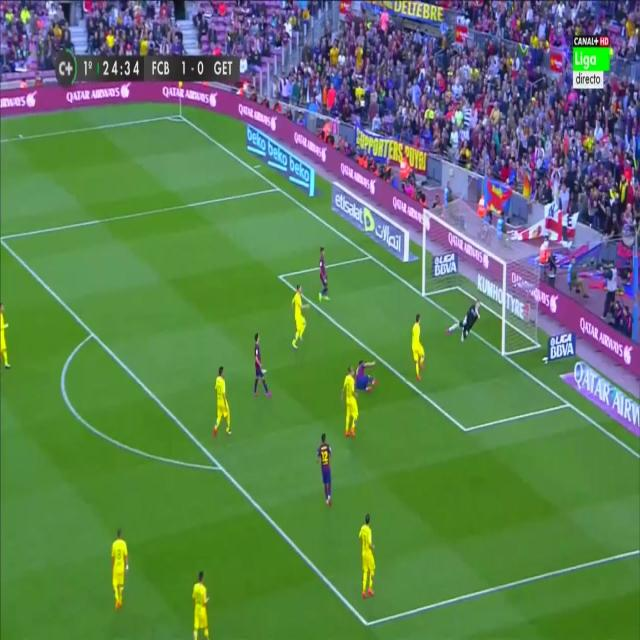Goalkeeper: (444, 298, 483, 344)
Player: (109, 525, 132, 614), (358, 513, 379, 605), (211, 361, 234, 440), (288, 282, 312, 353), (190, 567, 213, 640), (252, 329, 274, 400), (317, 430, 334, 510), (410, 308, 427, 385), (354, 355, 381, 396), (314, 243, 331, 304), (0, 300, 14, 372)
